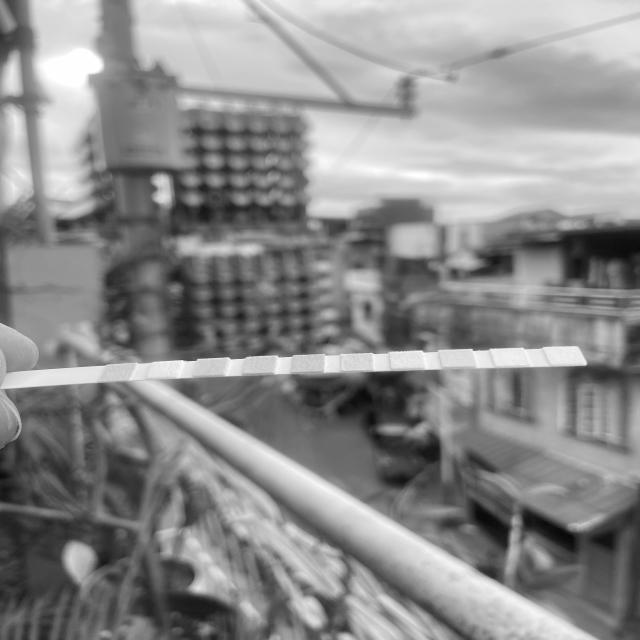Bilirubin: (154, 362, 177, 377)
Blood: (294, 356, 322, 371)
Glucose: (107, 365, 129, 379)
Ketone: (200, 359, 222, 375)
Leukocytes: (554, 347, 578, 364)
Nitrite: (497, 349, 525, 365)
Protein: (392, 353, 422, 368)
SpGravity: (247, 358, 273, 372)
Urobilinogen: (444, 350, 472, 366)
background: (0, 0, 640, 640)
pH: (342, 354, 371, 370)
strip: (8, 346, 587, 388)
